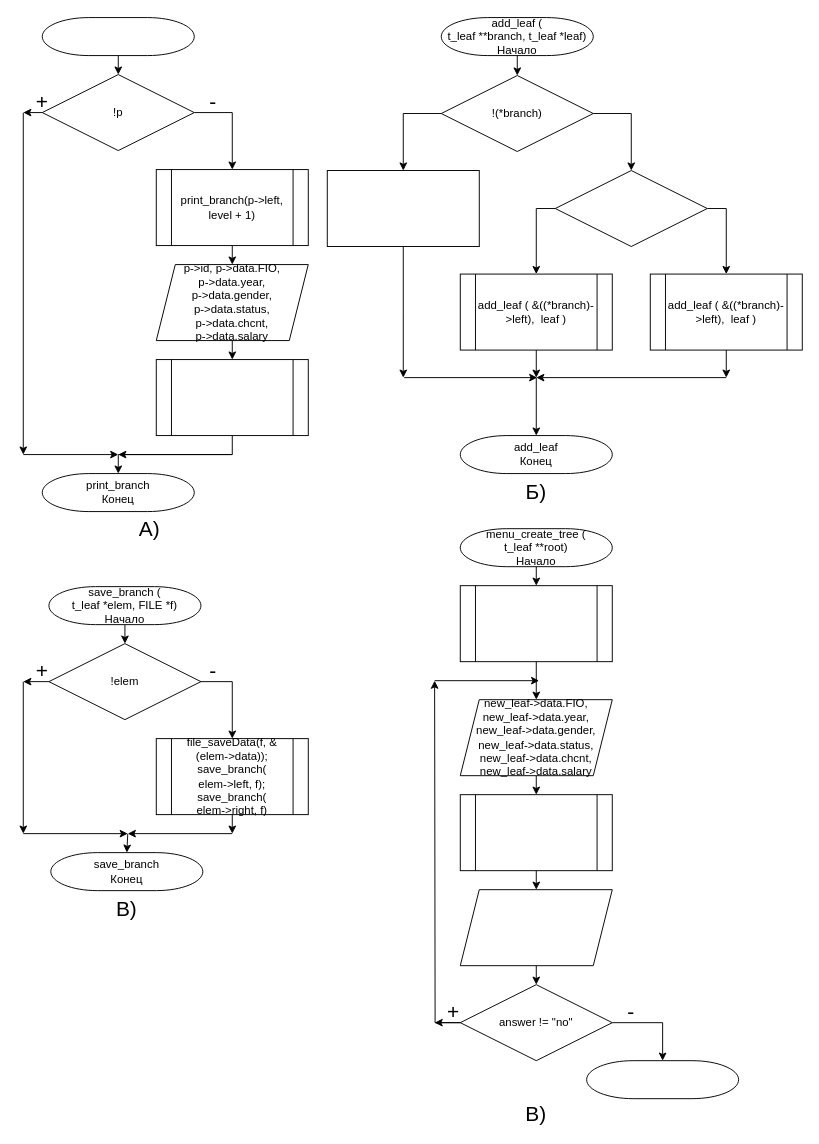
Some shapes in this 819 by 1144 pixel diagram are drawn without their labels. Here are the shapes that lost their labels. From the top down, the centre of each, then its label:
At [117,36]: "print_branch (t_leaf *p, unsigned long int level) Начало".
At [402,208]: "*branch = leaf;".
At [630,208]: "strcmp((*branch)->data.FIO, leaf->data.FIO ) < 0".
At [231,397]: "print_branch(p->right, level + 1)".
At [535,623]: "del_branch(root);".
At [535,832]: "add_leaf(root, new_leaf);".
At [535,927]: "answer".
At [662,1079]: "menu_create_tree Конец".
